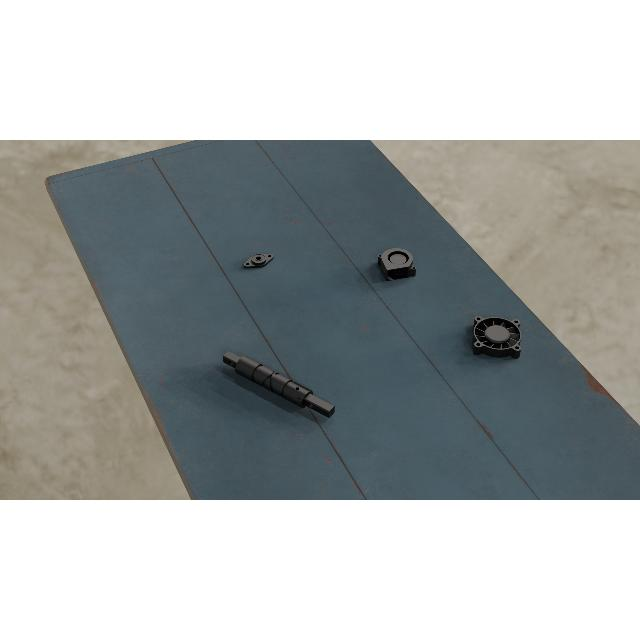Pieza1: (219, 344, 337, 426)
Pieza2: (240, 248, 278, 272)
Pieza3: (377, 246, 418, 282)
Pieza4: (472, 316, 522, 360)
